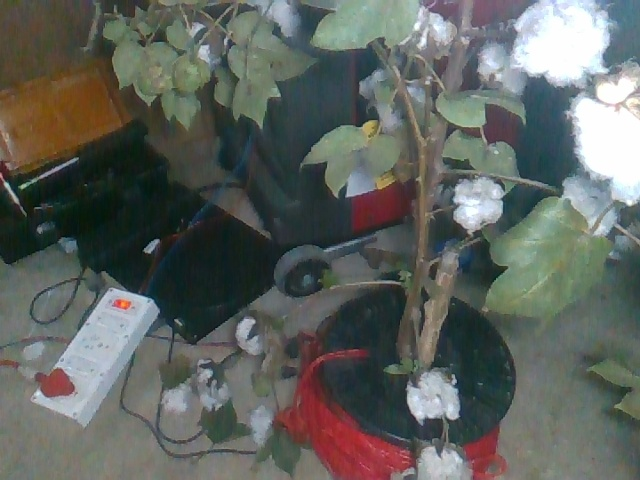cotton: (511, 1, 607, 81), (570, 97, 640, 202), (455, 176, 504, 226), (192, 360, 230, 408), (597, 73, 637, 106), (234, 317, 265, 356)
